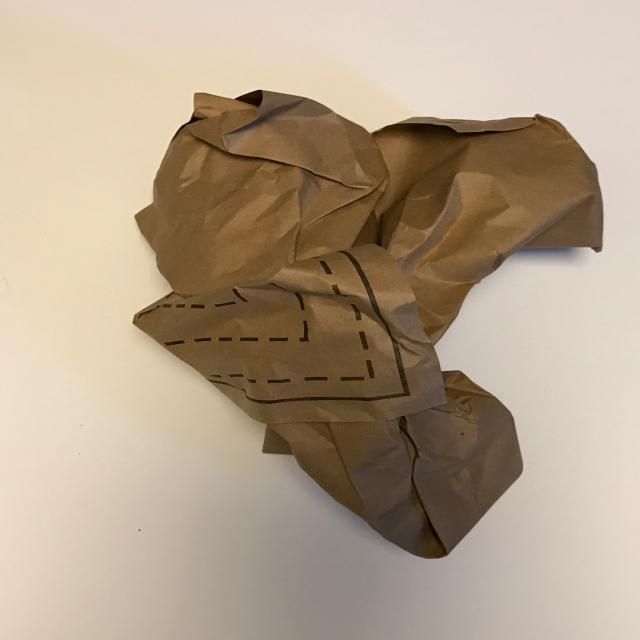paper: (119, 76, 616, 565)
